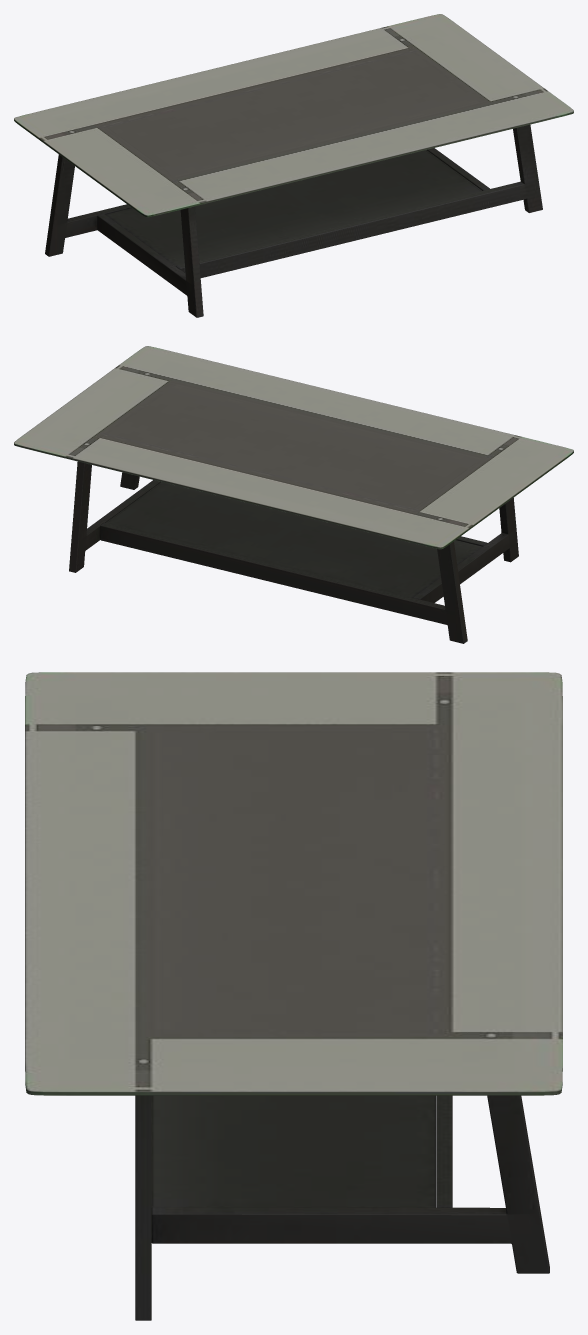
The model's file is table.gltf.
The picture shows the model from 3 angles, top to bottom: view 1: azimuth 30°, elevation 25°; view 2: azimuth 150°, elevation 25°; view 3: azimuth 270°, elevation 25°; orthographic projection. The views are drawn at different scales.
Parts seen in each view (by area): view 1: node-0; view 2: node-0; view 3: node-0.
Part boxes in pixels (x1=…): node-0: x1=14, y1=14, x2=573, y2=317; node-0: x1=14, y1=346, x2=573, y2=643; node-0: x1=25, y1=672, x2=562, y2=1320.
Size of the model in its own units: 120 by 31.32 by 65.
Materials: 1 (1 with a texture image).
